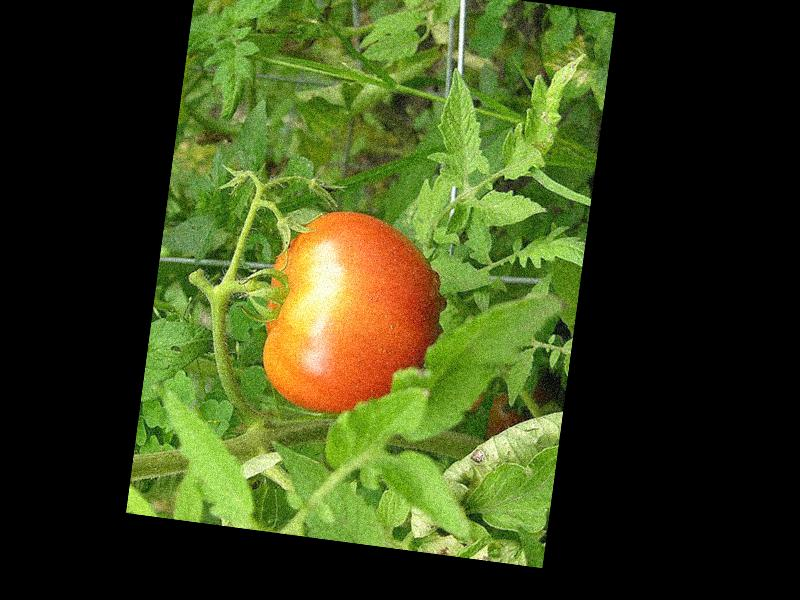Tomato: (253, 204, 448, 424)
